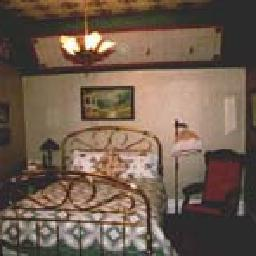Cama: (2, 152, 163, 253)
